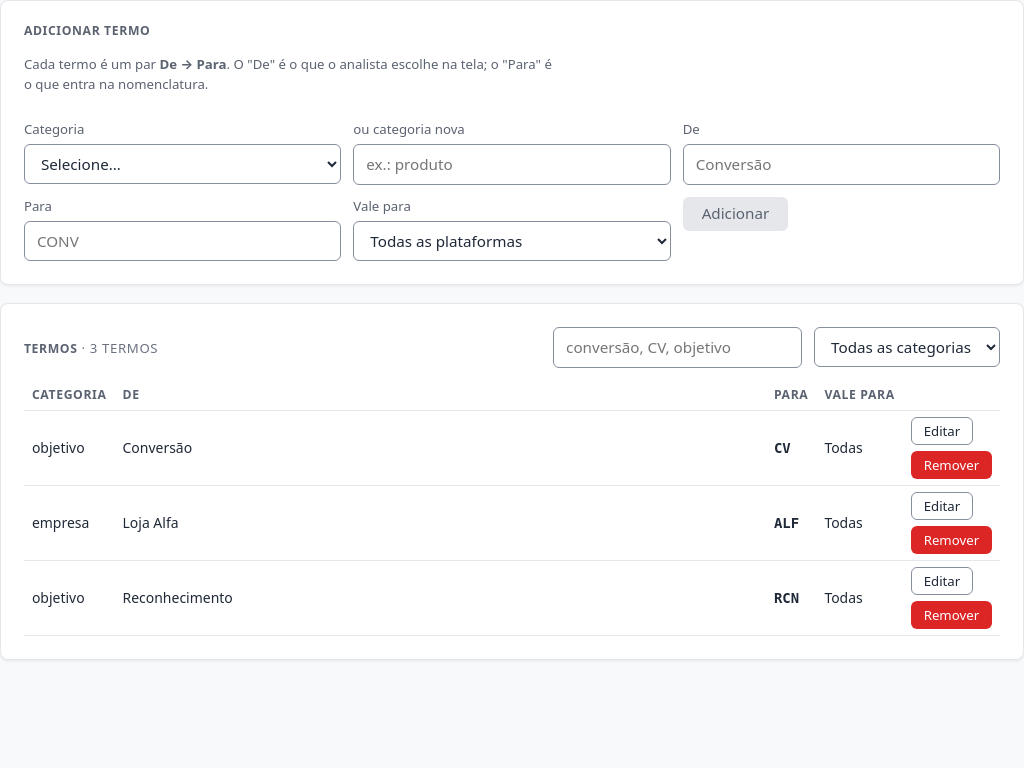
os três estados vazios › busca sem resultado é DISTINTA de dicionário vazio e oferece cadastrar
Check: the text "Conversão" is shown, box 114,411 -> 766,486
Type "guarda-chuva" into the search field named "Buscar termo" at (678, 348), box 553,327 -> 802,368
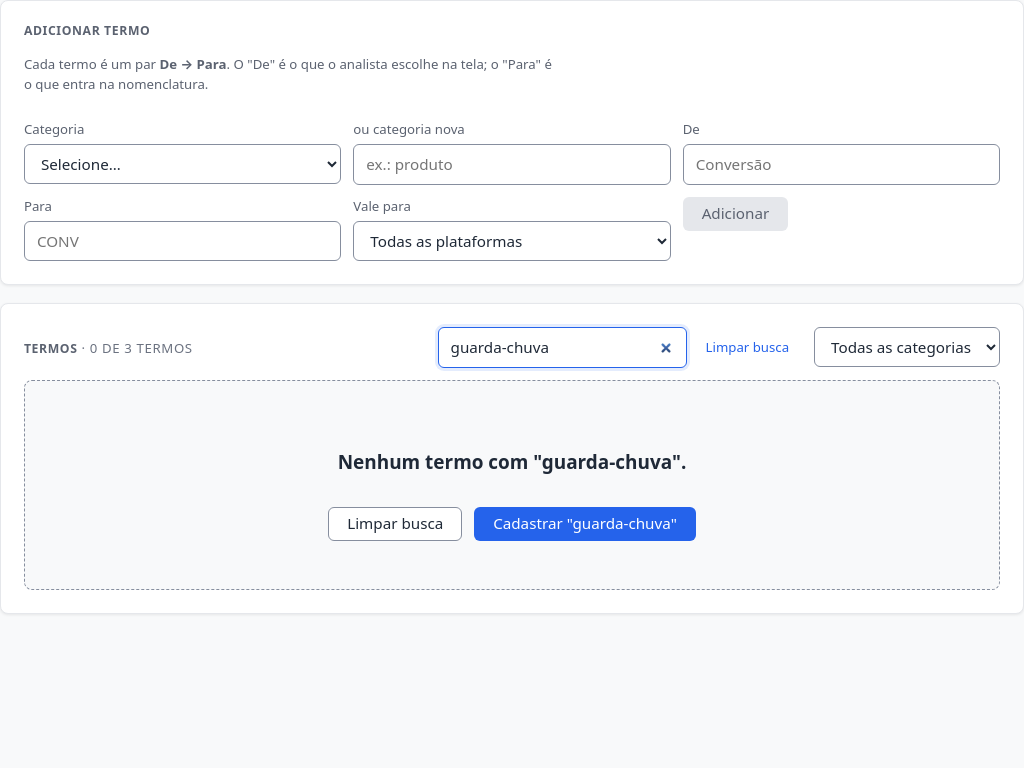
Check: the button "Limpar busca" below "Nenhum termo com \"guarda-chuva\"." is shown, box 328,507 -> 462,541
Check: the button "Cadastrar \"guarda-chuva\"" is shown, box 474,507 -> 696,541
